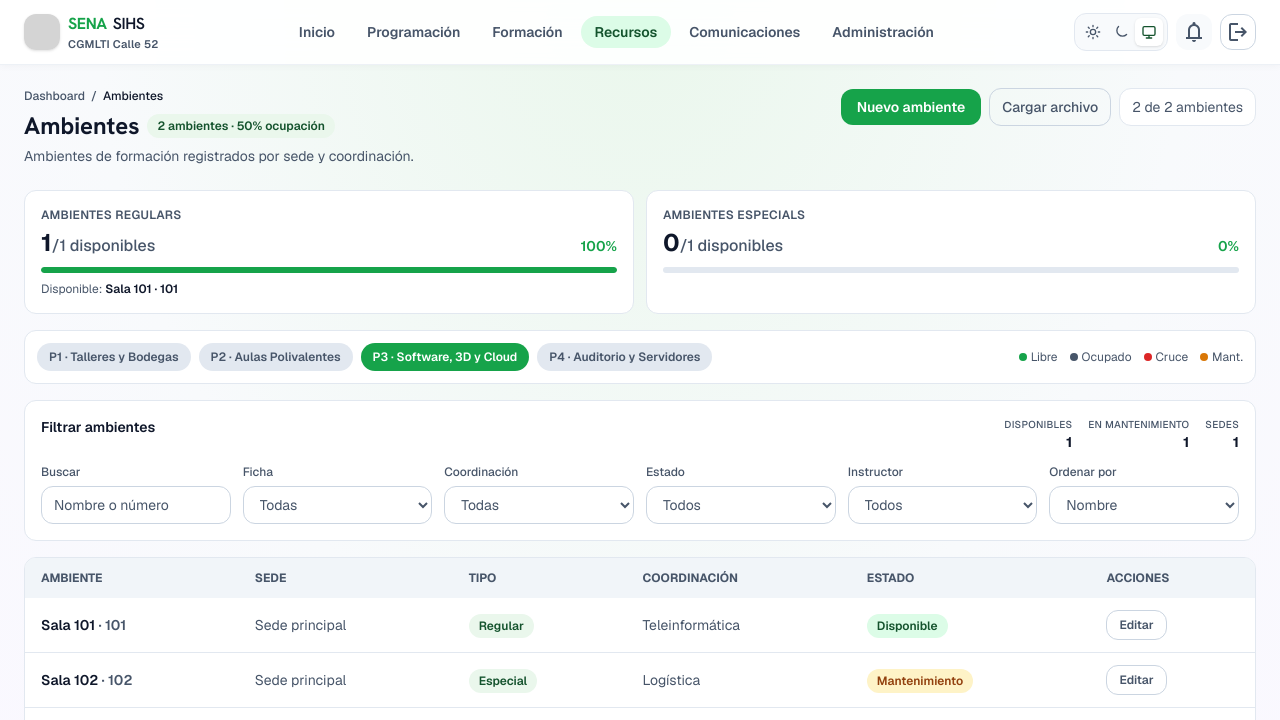
Scenario: Ambientes › botón "Cerrar" del drawer oculta el panel de detalle
Expected: the text "Sala 101" is shown, 41,616 -> 95,634
What coordinates should you click on to do the following:
click the text "Sala 101"
I would click on:
 (68, 625)
Its box is 25,598 -> 239,652.
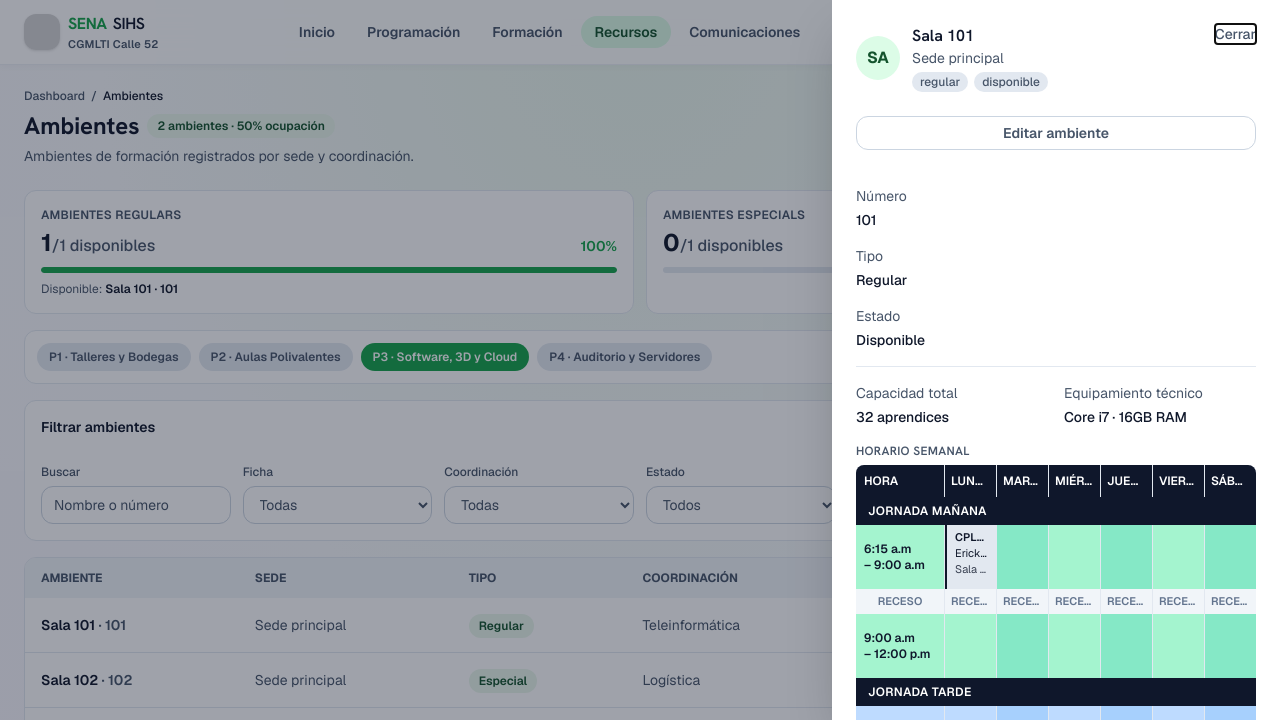
Now the dialog is shown, box 832,0 -> 1279,719
What coordinates should you click on to do the following:
click the button "Cerrar"
I would click on:
 (1235, 34)
Its box is 1215,24 -> 1256,44.
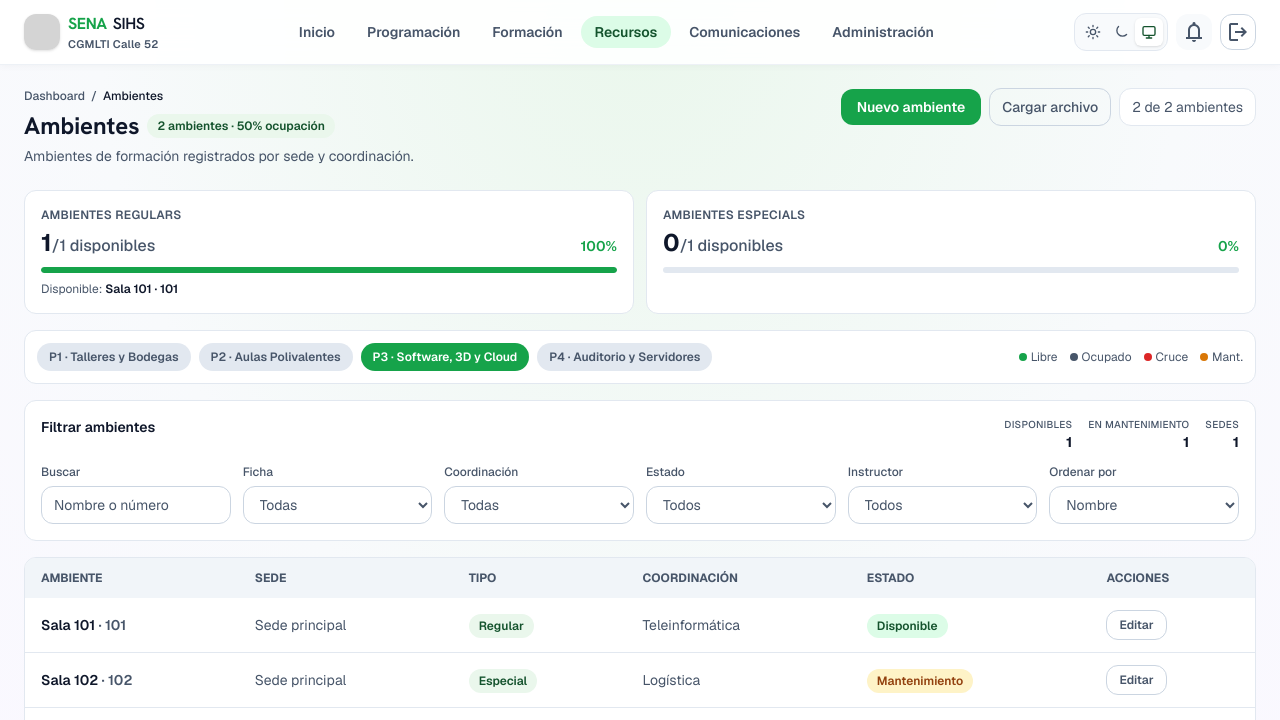
Now the dialog is gone
